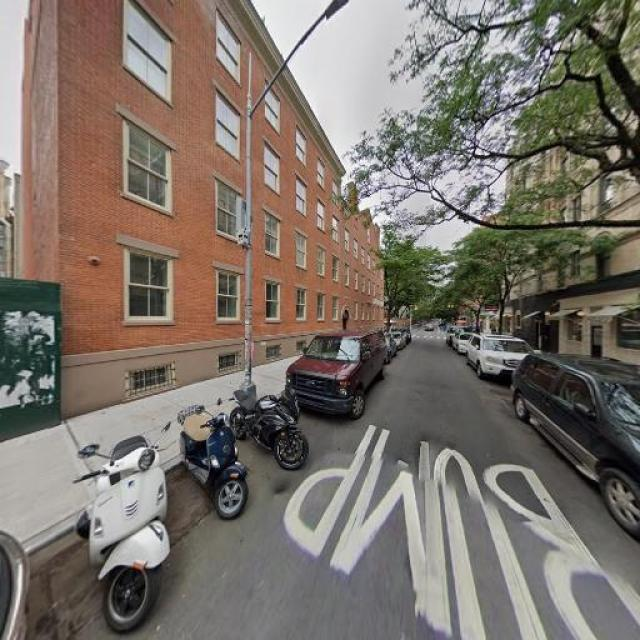Building: (64, 1, 369, 415), (512, 1, 640, 372)
